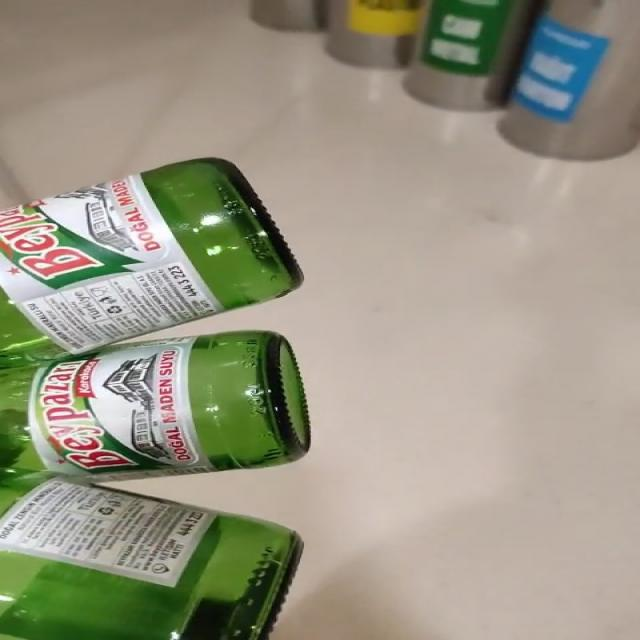glass: (0, 158, 309, 640)
